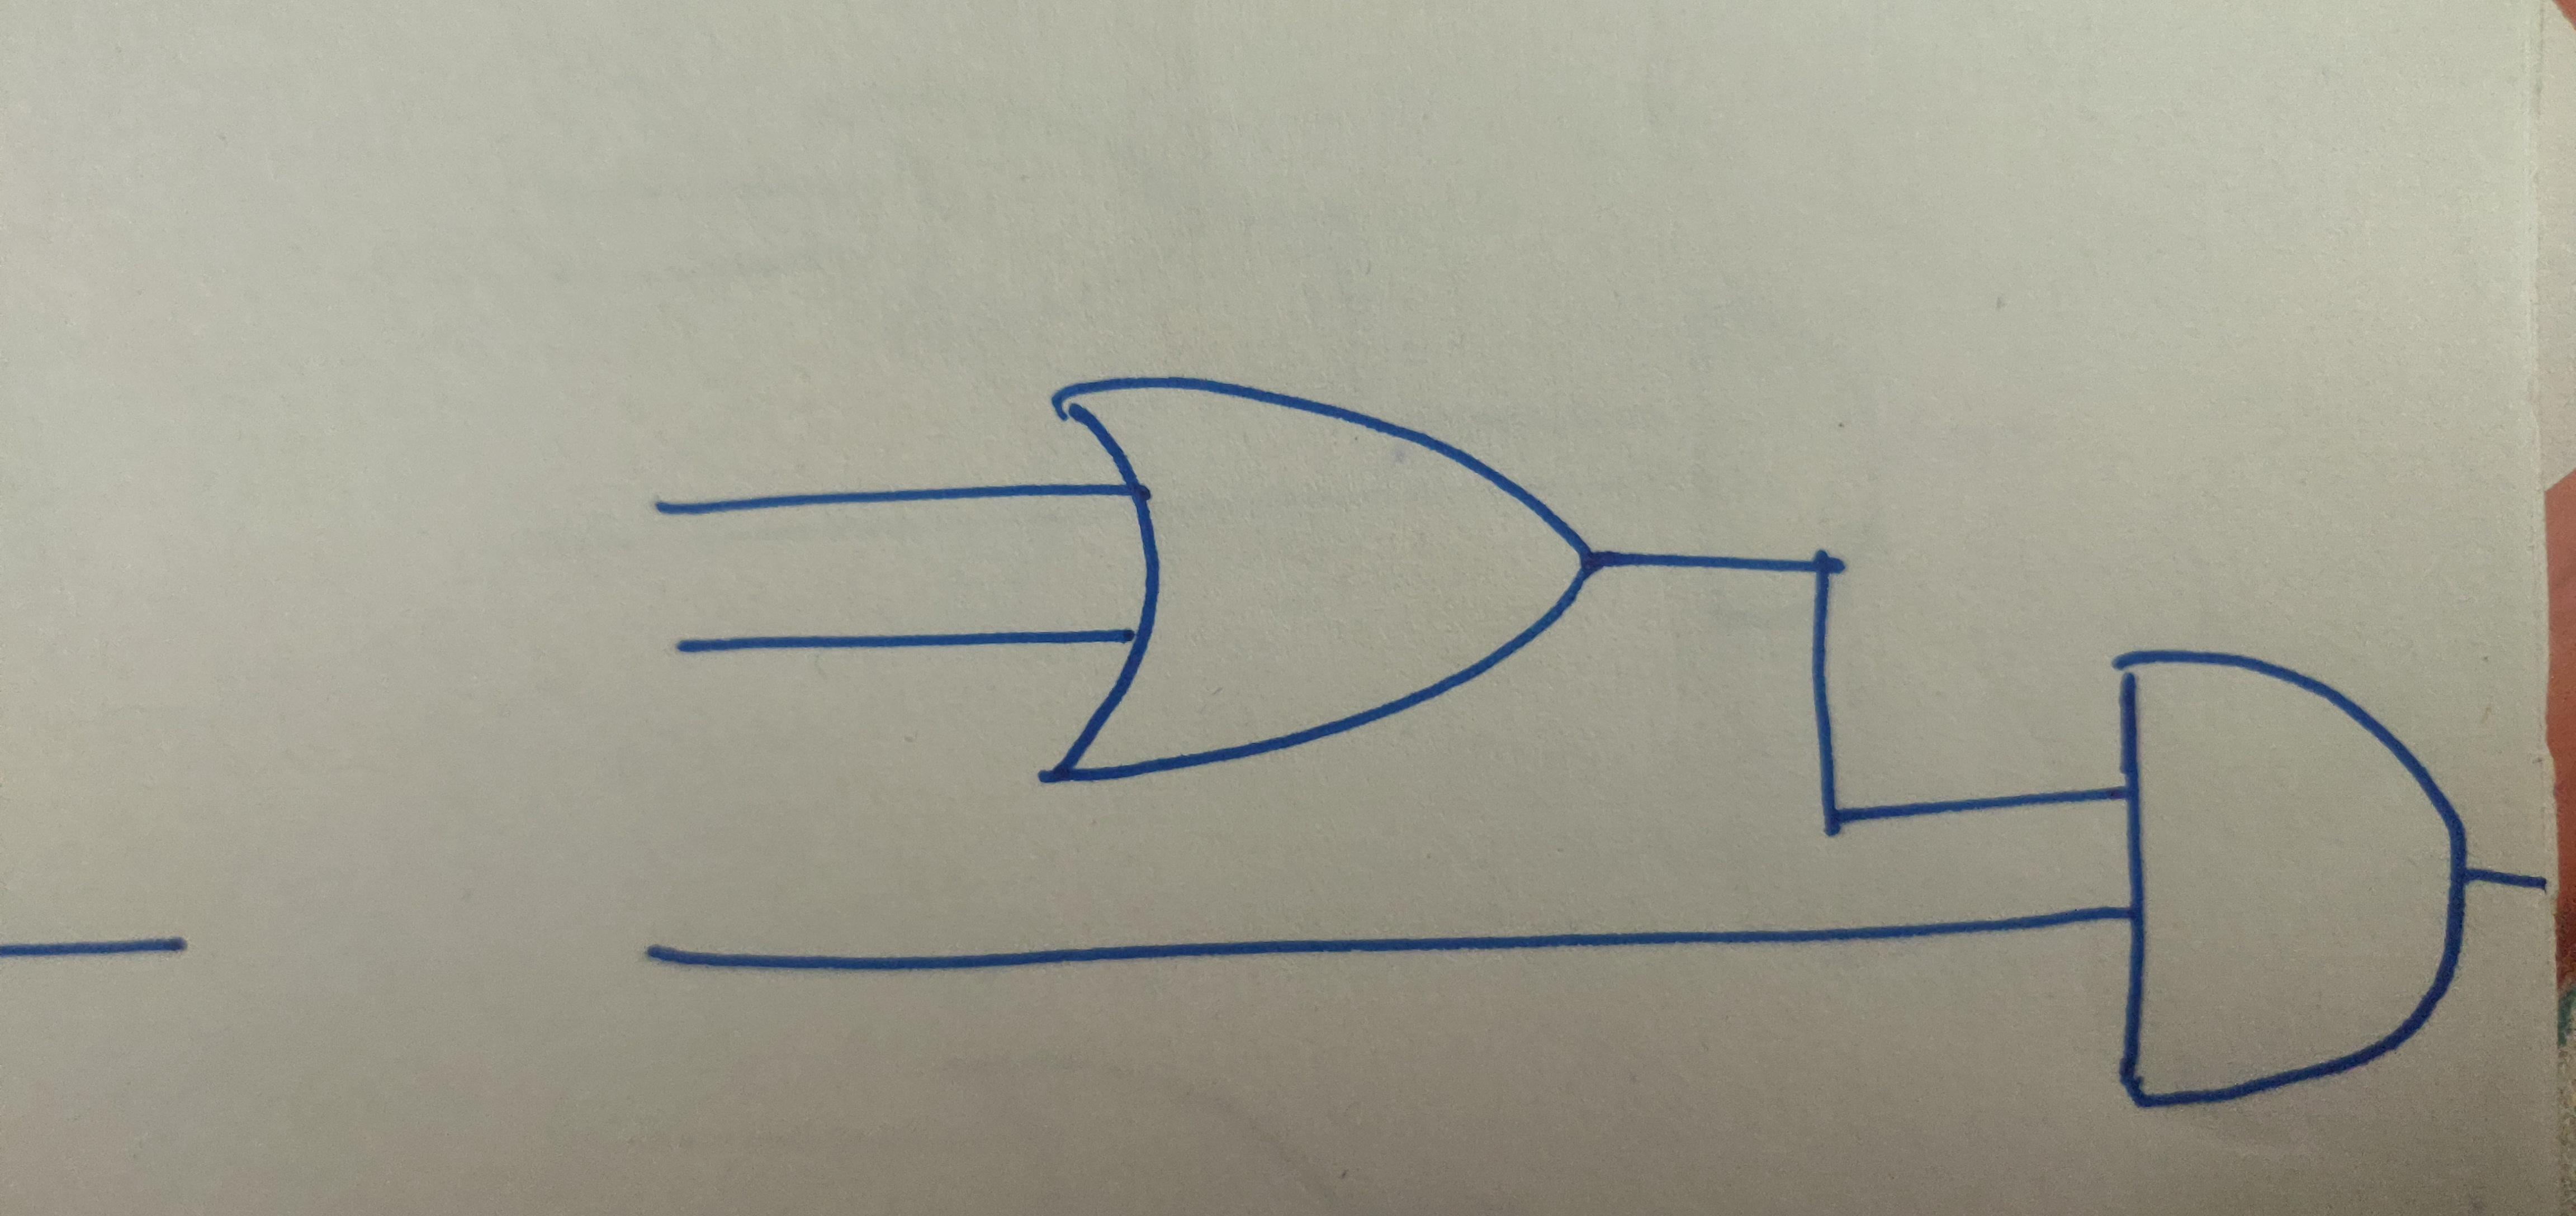and: (2109, 644, 2471, 1117)
or: (1038, 365, 1600, 779)
